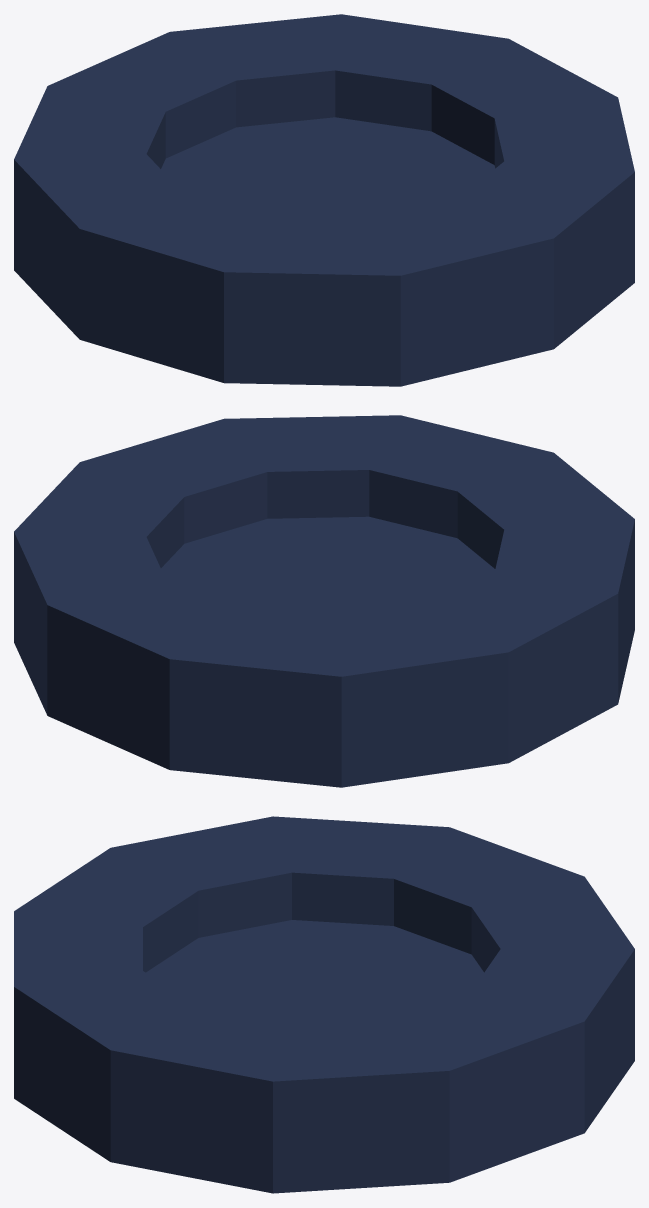
Rendered from Tire_smooth.dae.
The picture shows the model from 3 angles, top to bottom: view 1: azimuth 30°, elevation 25°; view 2: azimuth 150°, elevation 25°; view 3: azimuth 270°, elevation 25°; orthographic projection.
Parts seen in each view (by area): view 1: Cylinder; view 2: Cylinder; view 3: Cylinder.
Part boxes in pixels (x1,y1,x2,y2): Cylinder: [14, 14, 634, 386]; Cylinder: [14, 415, 634, 787]; Cylinder: [14, 816, 634, 1193].
Size of the model in its own units: 2.31 by 2.28 by 0.454.
